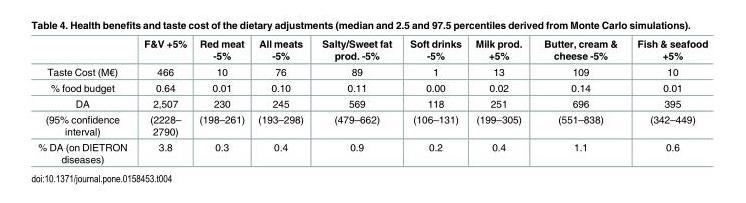table: (37, 37, 707, 164)
table column: (37, 37, 134, 164), (532, 37, 626, 164), (312, 37, 400, 164), (626, 37, 707, 164), (400, 37, 467, 164), (467, 37, 532, 164), (250, 37, 312, 164), (134, 37, 192, 164), (192, 37, 250, 164)
table column header: (37, 37, 707, 63)
table row: (37, 111, 707, 138), (37, 37, 707, 63), (37, 138, 707, 164), (37, 63, 707, 79), (37, 79, 707, 95), (37, 95, 707, 111)
